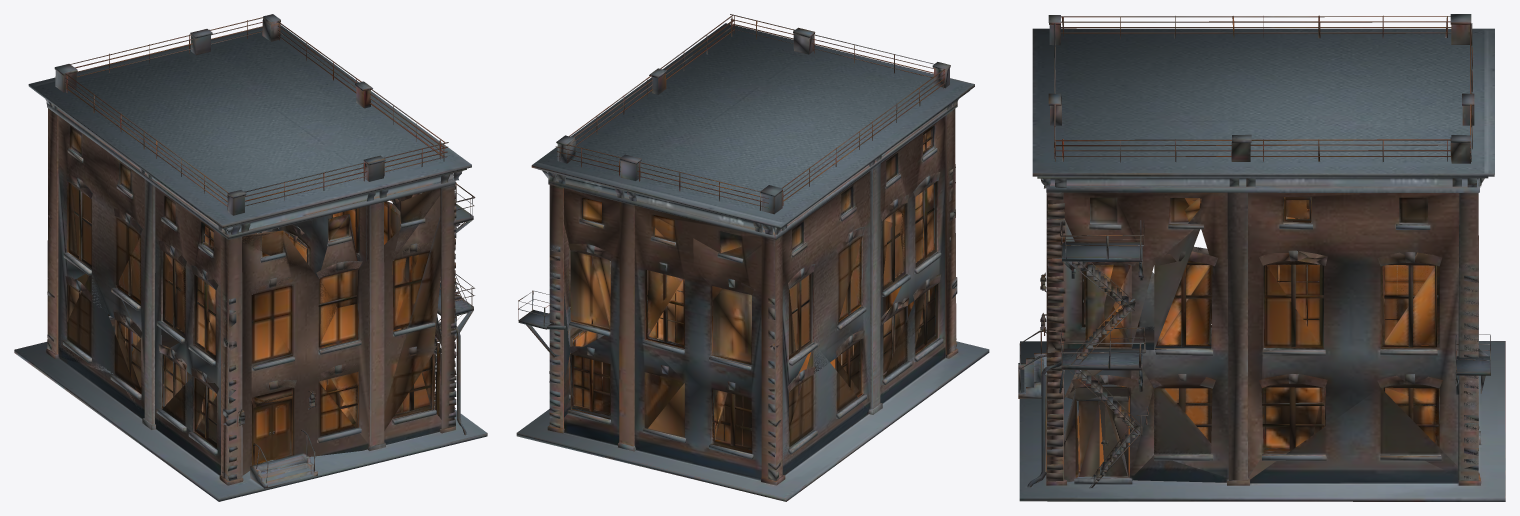
3 views of the same model, side by side, from view 1: azimuth 30°, elevation 25°; view 2: azimuth 150°, elevation 25°; view 3: azimuth 270°, elevation 25° (orthographic). The views are drawn at different scales.
Size of the model in its own units: 0.732 by 0.7393 by 0.9429.
Materials: 1 (1 with a texture image).
